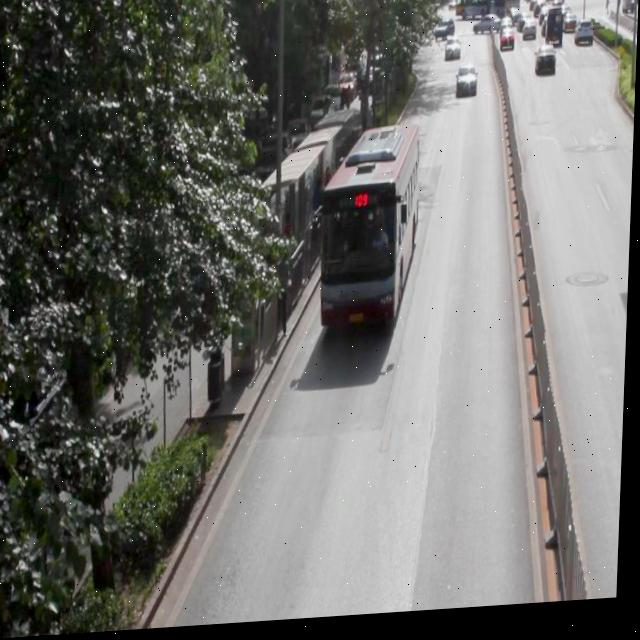car: (455, 71, 476, 102)
van: (321, 130, 421, 331)
